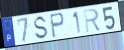1: (72, 11, 82, 35)
5: (102, 4, 117, 30)
7: (16, 16, 30, 44)
P: (48, 12, 65, 39)
R: (83, 8, 102, 35)
S: (33, 15, 49, 41)
